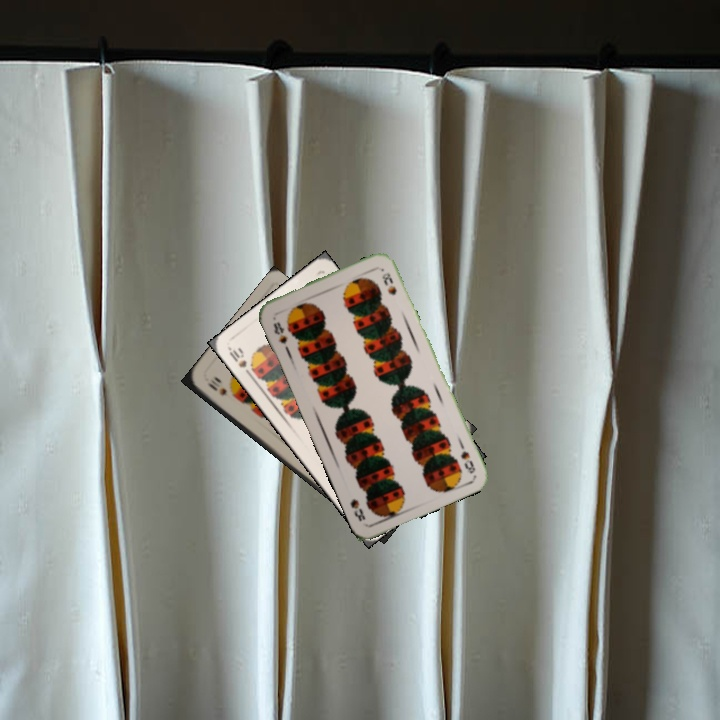S10: (225, 344, 255, 380), (203, 375, 229, 398)
S8: (455, 437, 478, 476), (269, 317, 290, 347)
